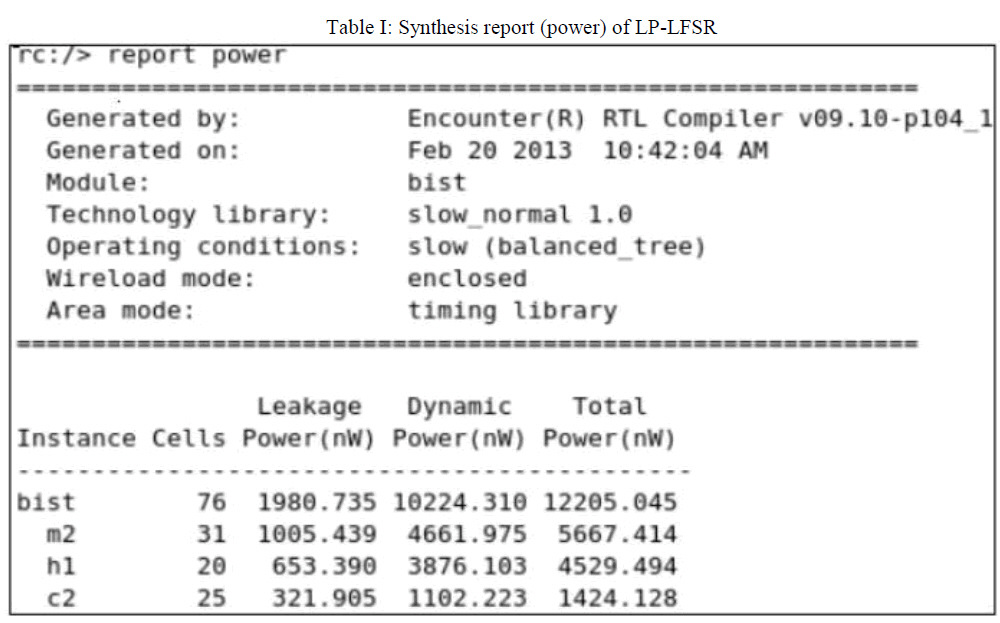table: (13, 390, 699, 610)
